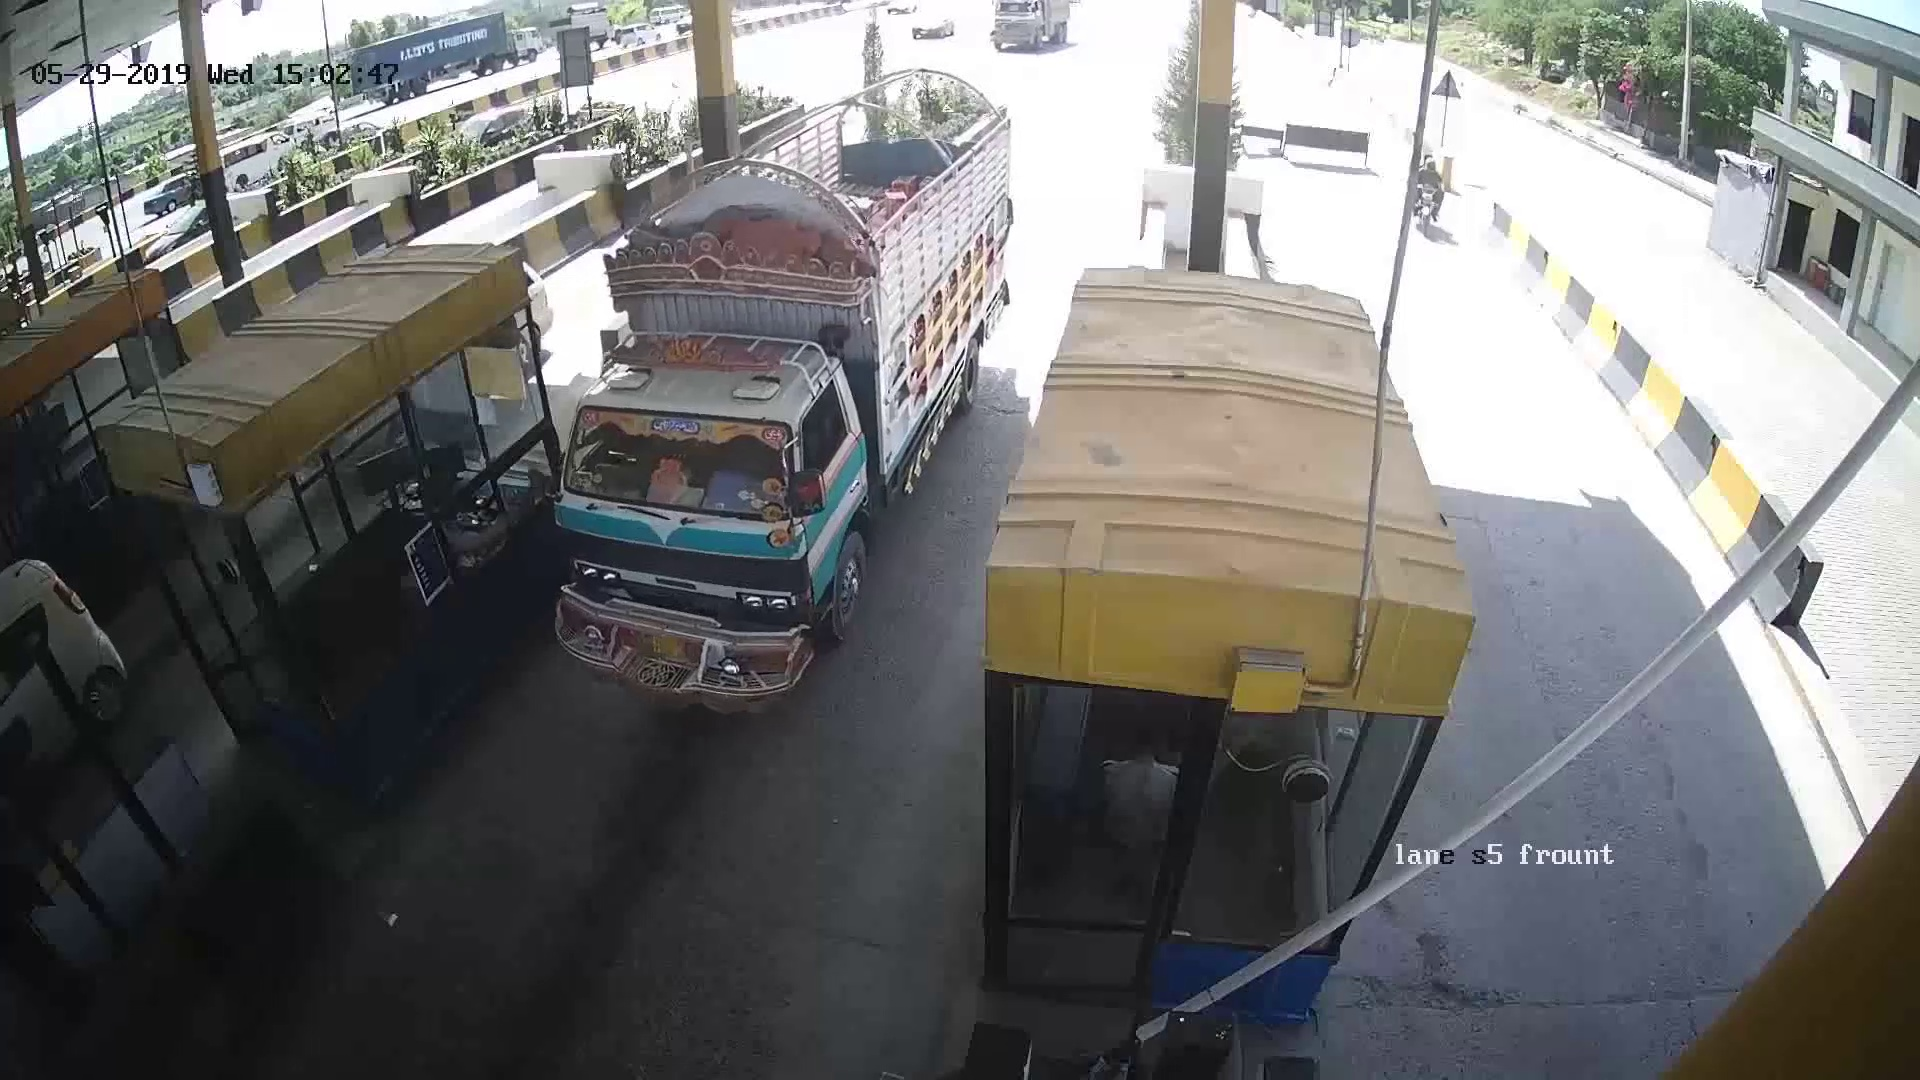truck: (564, 164, 1006, 645)
